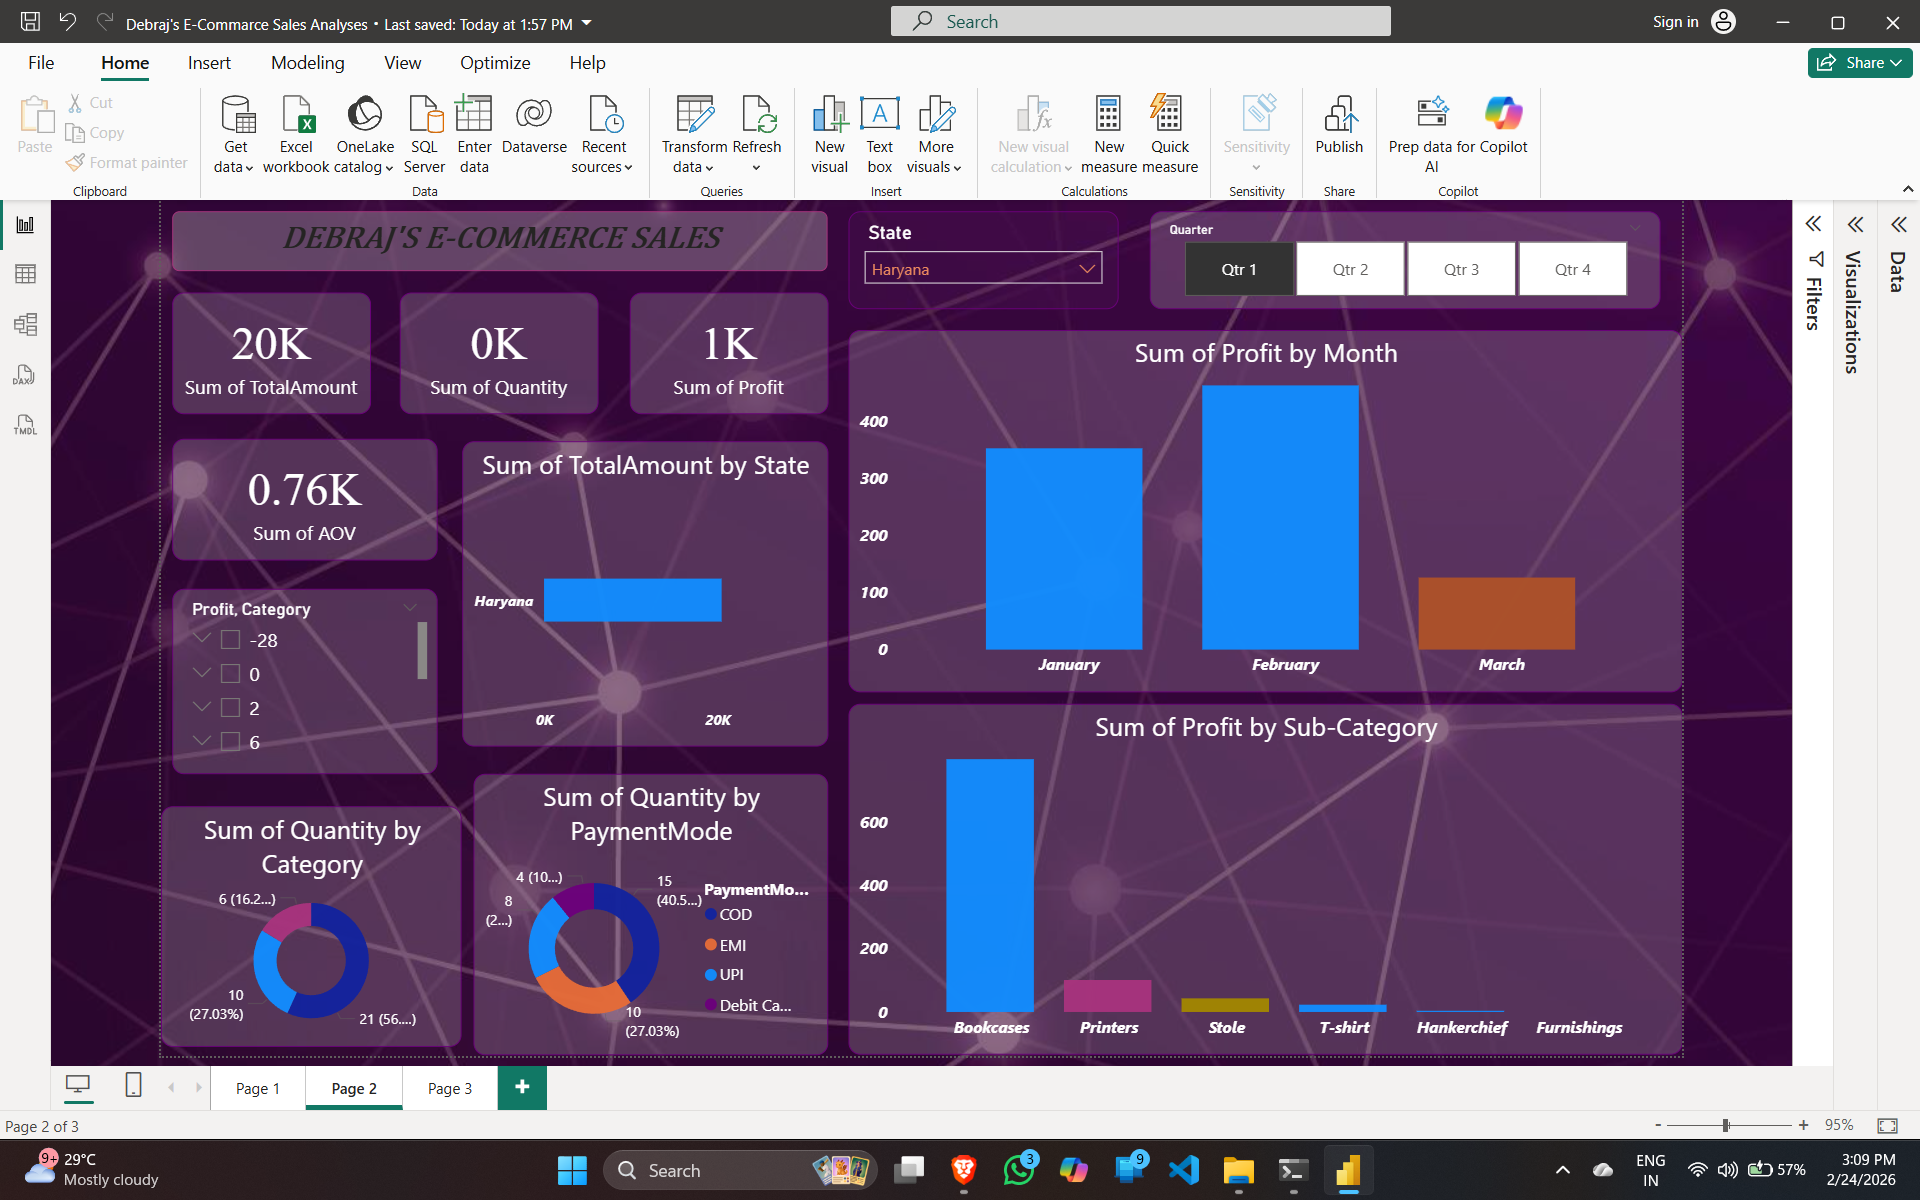

Layout of this report page (visuals, bound fields, positions):
{"tool":"powerbi","page":{"name":"Analysis Deskboard","canvas":[1280,720],"ordinal":0},"visuals":[{"type":"textbox","box":[9.6,9.6,551.2,50.6],"z":0},{"type":"lineClusteredColumnComboChart","fields":{"Category":["Orders (2).Order Date.Variation.Date Hierarchy.Month"],"Y":["Sum(Details.Profit)"]},"box":[578.6,109.4,701.7,305],"z":1000},{"type":"lineClusteredColumnComboChart","fields":{"Category":["Details.Sub-Category"],"Y":["Sum(Details.Profit)"]},"box":[578.6,424,701.7,295.4],"z":2000},{"type":"donutChart","fields":{"Category":["Details.Category"],"Y":["Sum(Details.Quantity)"]},"box":[0,510.2,253,202.4],"z":3000},{"type":"donutChart","fields":{"Category":["Details.PaymentMode"],"Y":["Sum(Details.Quantity)"]},"box":[262.6,482.8,298.2,236.6],"z":4000},{"type":"card","fields":{"Values":["Sum(Details.TotalAmount)"]},"box":[9.6,78,166.9,102.6],"z":5000},{"type":"card","fields":{"Values":["Sum(Details.Quantity)"]},"box":[201.1,78,166.9,102.6],"z":6000},{"type":"card","fields":{"Values":["Sum(Details.Profit)"]},"box":[393.9,78,166.9,102.6],"z":7000},{"type":"card","fields":{"Values":["Sum(Details.AOV)"]},"box":[9.6,201.1,223,102.6],"z":8000},{"type":"barChart","fields":{"Category":["Orders (2).State"],"Y":["Sum(Details.TotalAmount)"]},"box":[253,202.4,307.8,257.1],"z":9000},{"type":"slicer","fields":{"Values":["Details.Profit","Details.Category"]},"box":[9.6,326.9,223,155.9],"z":10000},{"type":"slicer","fields":{"Values":["Orders (2).State"]},"box":[578.6,9.6,227.1,82.1],"z":11000},{"type":"slicer","fields":{"Values":["Orders (2).Order Date.Variation.Date Hierarchy.Quarter"]},"box":[831.6,9.6,429.5,82.1],"z":12000}]}

Visuals, with their boxes on the page's 1280x720 design canvas (x1, y1, x2, y2). These are canvas units, not pixel positions in the 1920x1200 screenshot, which may show the page scaled, cropped or inside an application window:
textbox: left=10, top=10, right=561, bottom=60
lineClusteredColumnComboChart - Orders (2).Order Date.Variation.Date Hierarchy.Month x Sum(Details.Profit): left=579, top=109, right=1280, bottom=414
lineClusteredColumnComboChart - Details.Sub-Category x Sum(Details.Profit): left=579, top=424, right=1280, bottom=719
donutChart - Details.Category x Sum(Details.Quantity): left=0, top=510, right=253, bottom=713
donutChart - Details.PaymentMode x Sum(Details.Quantity): left=263, top=483, right=561, bottom=719
card - Sum(Details.TotalAmount): left=10, top=78, right=176, bottom=181
card - Sum(Details.Quantity): left=201, top=78, right=368, bottom=181
card - Sum(Details.Profit): left=394, top=78, right=561, bottom=181
card - Sum(Details.AOV): left=10, top=201, right=233, bottom=304
barChart - Orders (2).State x Sum(Details.TotalAmount): left=253, top=202, right=561, bottom=460
slicer - Details.Profit x Details.Category: left=10, top=327, right=233, bottom=483
slicer - Orders (2).State: left=579, top=10, right=806, bottom=92
slicer - Orders (2).Order Date.Variation.Date Hierarchy.Quarter: left=832, top=10, right=1261, bottom=92
